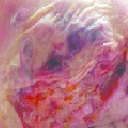Pyoderma Gangrenosum: (5, 12, 119, 125)
